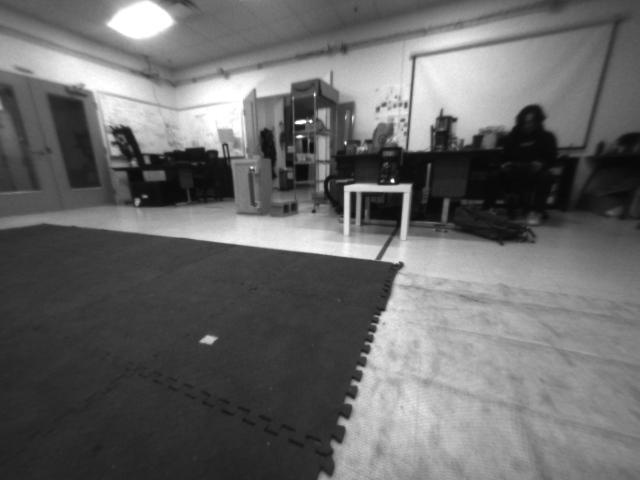coffee_pot: (375, 142, 403, 188)
